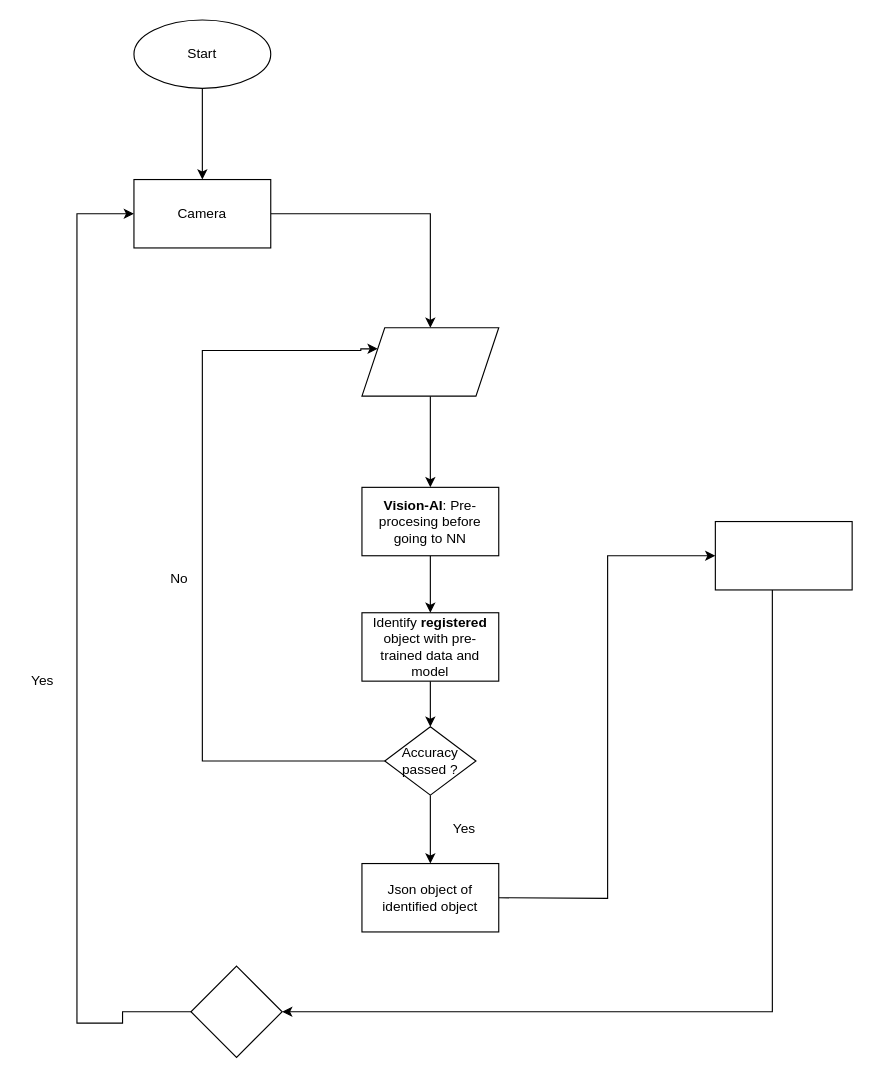
Image size: 872x1077. Some labels were removed from this diagram. Each missing label, with the centre of its shape:
"Processing success" goes at (236,1011).
"Robotic Arm Workflow" goes at (783,555).
"Taking input from camera" goes at (430,361).
